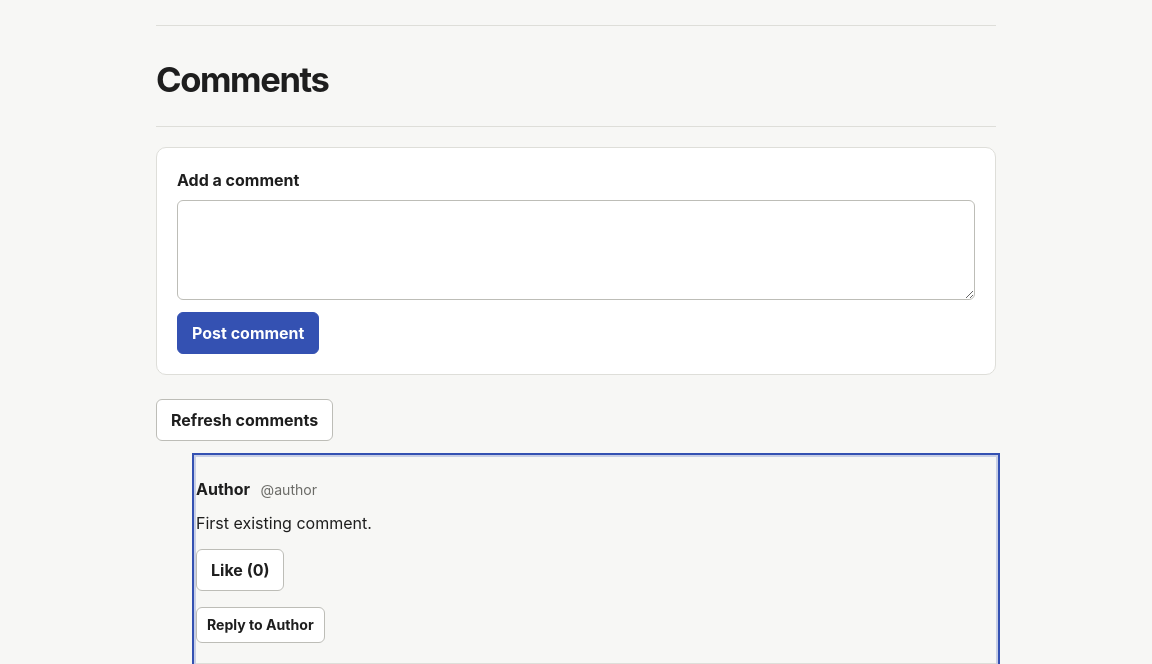
updates root repliesCount and the authoritative poll count after posting a reply
(page scrolled)
Expected: the text "First existing comment." is shown, [196, 513, 372, 533]
Click the button "Reply to Author" at (260, 625), box [196, 607, 325, 643]
(page scrolled)
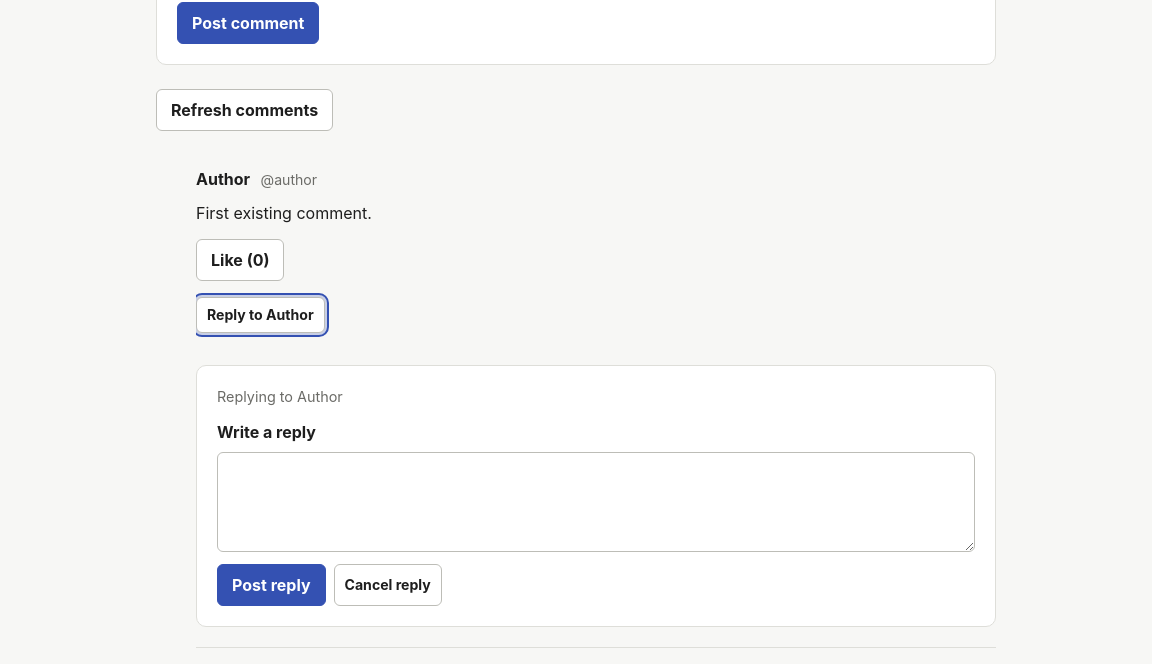
Type "Reply from the detail page." into the text box labelled "Write a reply" at (596, 502), box [217, 452, 975, 552]
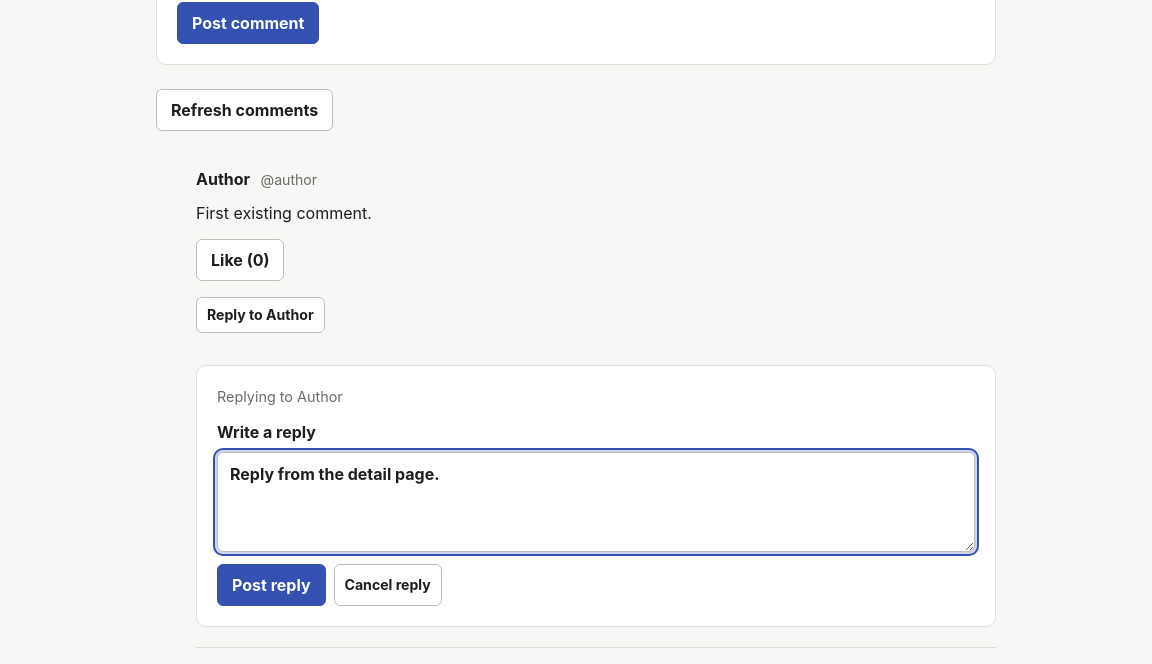
Click the button "Post reply" at (271, 584), box [217, 564, 326, 606]
(page scrolled)
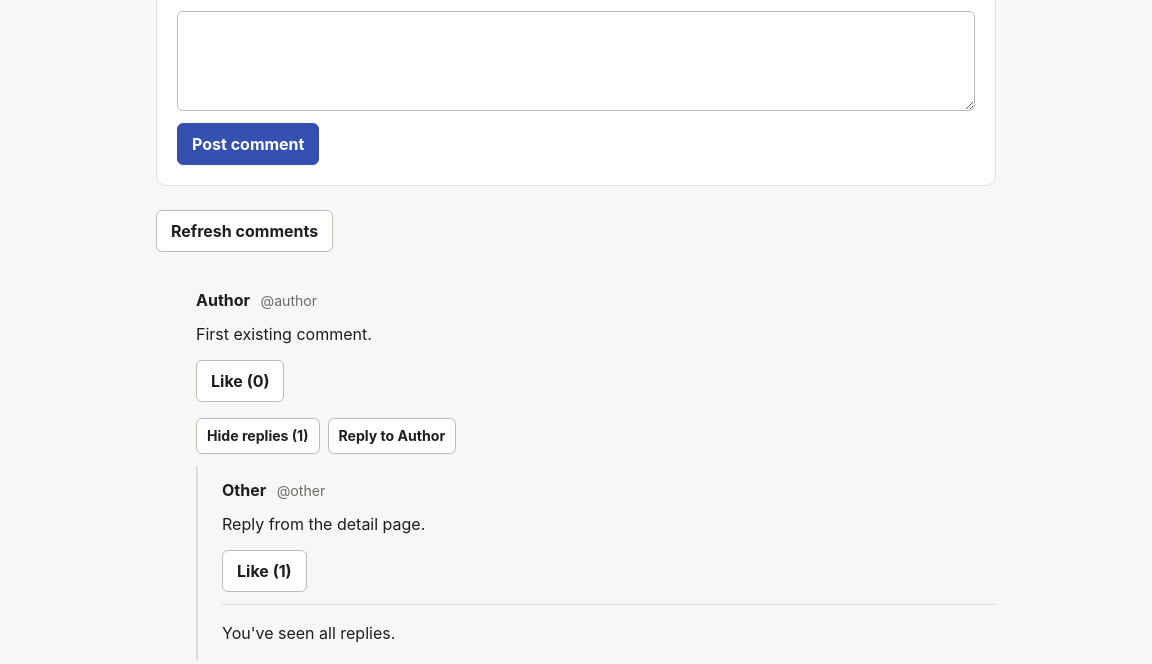
Now the text "Reply from the detail page." is shown, box [222, 514, 425, 534]
Click the button "Hide replies (1)" at (258, 436), box [196, 418, 320, 454]
(page scrolled)
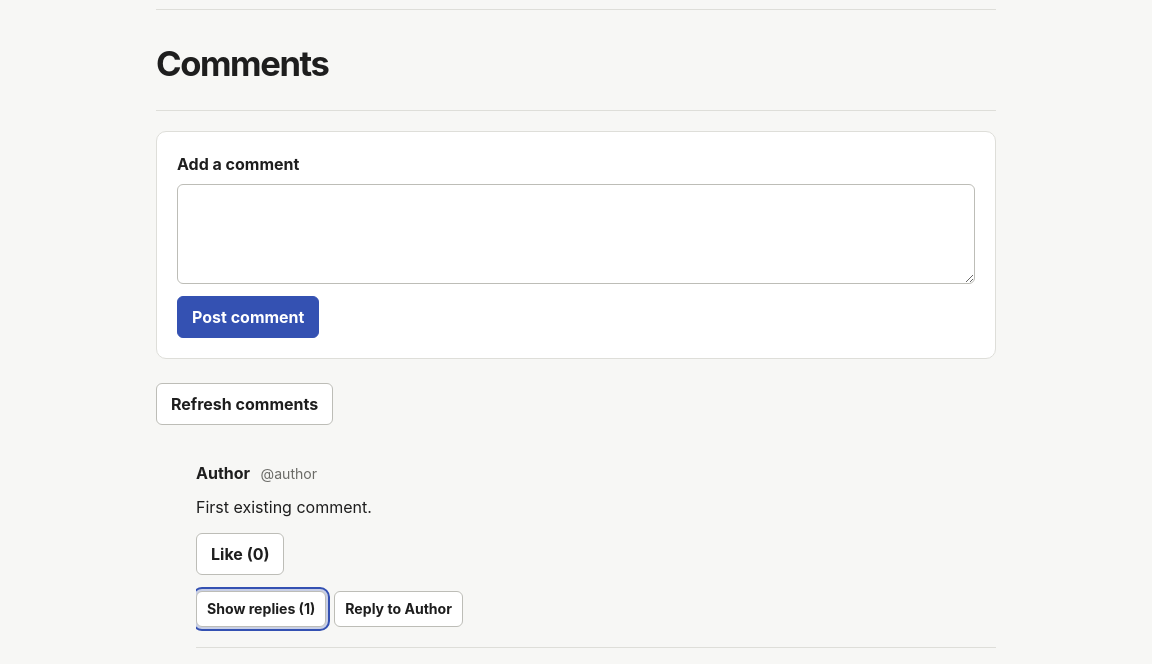
Now the button "Show replies (1)" is shown, box [196, 591, 326, 627]
